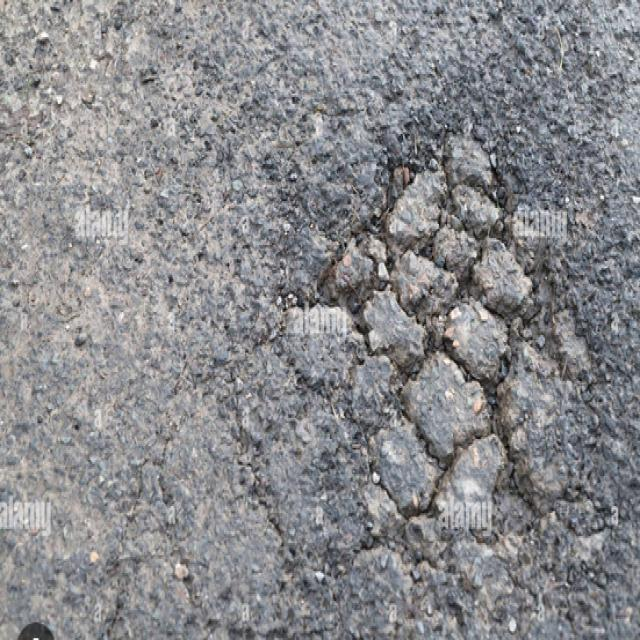Drain Hole: (350, 135, 560, 556)
